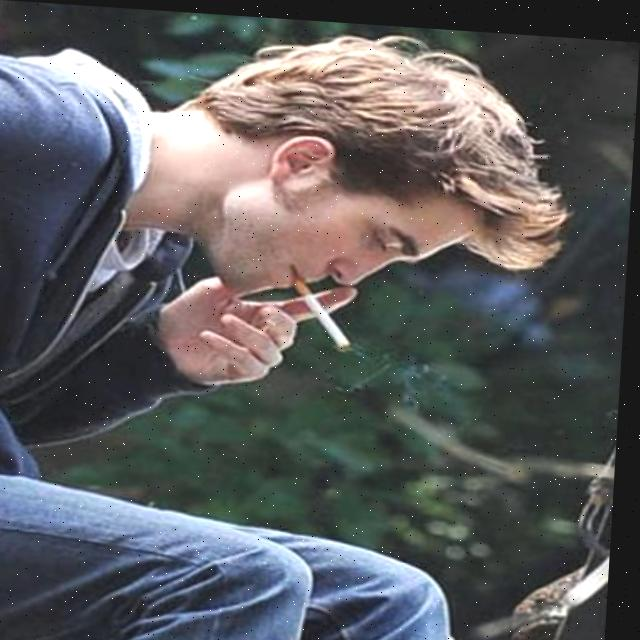cigarette: (290, 269, 359, 348)
